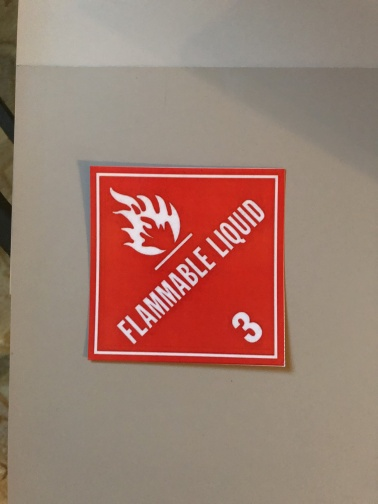FlammableLiquid: (89, 166, 288, 370)
